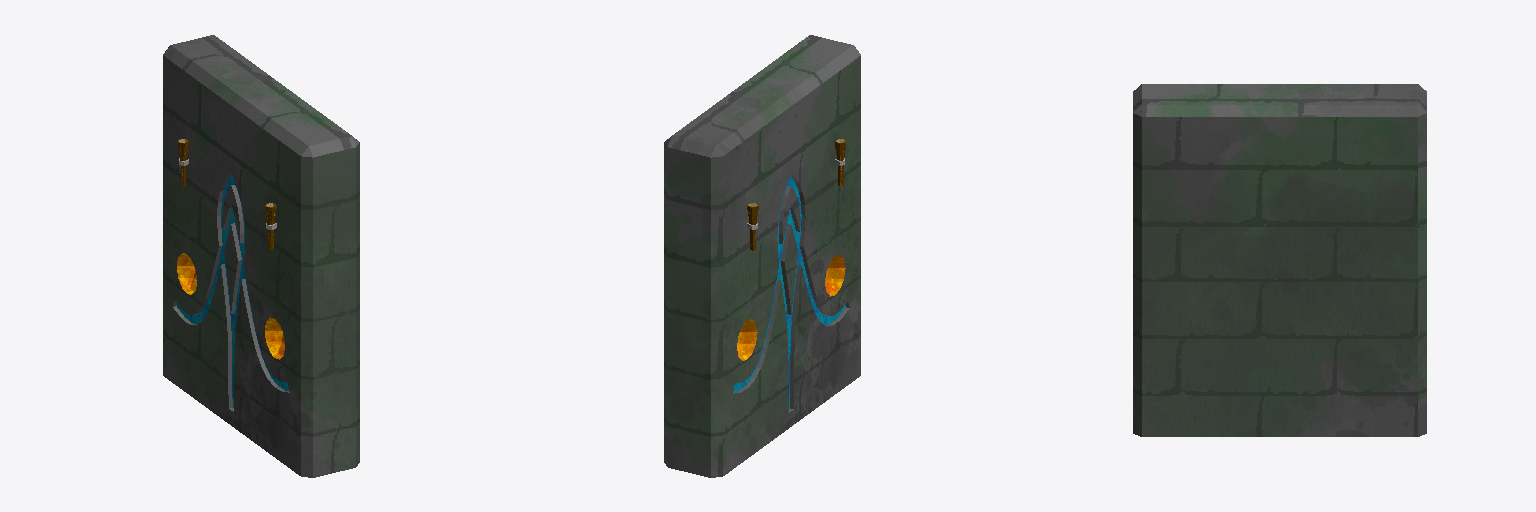
The picture shows the model from 3 angles: view 1: azimuth 30°, elevation 25°; view 2: azimuth 150°, elevation 25°; view 3: azimuth 270°, elevation 25°; orthographic projection.
Parts seen in each view (by area): view 1: puerta_agua.004, antorcha.001; view 2: puerta_agua.004, antorcha.001; view 3: puerta_agua.004.
Part boxes in pixels (bbox=[...]): puerta_agua.004: bbox=[163, 35, 359, 477]; antorcha.001: bbox=[178, 139, 276, 250]; puerta_agua.004: bbox=[664, 35, 860, 477]; antorcha.001: bbox=[747, 139, 845, 250]; puerta_agua.004: bbox=[1133, 84, 1426, 436].
Bounding box in the file's own units: 3.54 × 16.03 × 13.
Materials: 3 (1 with a texture image).